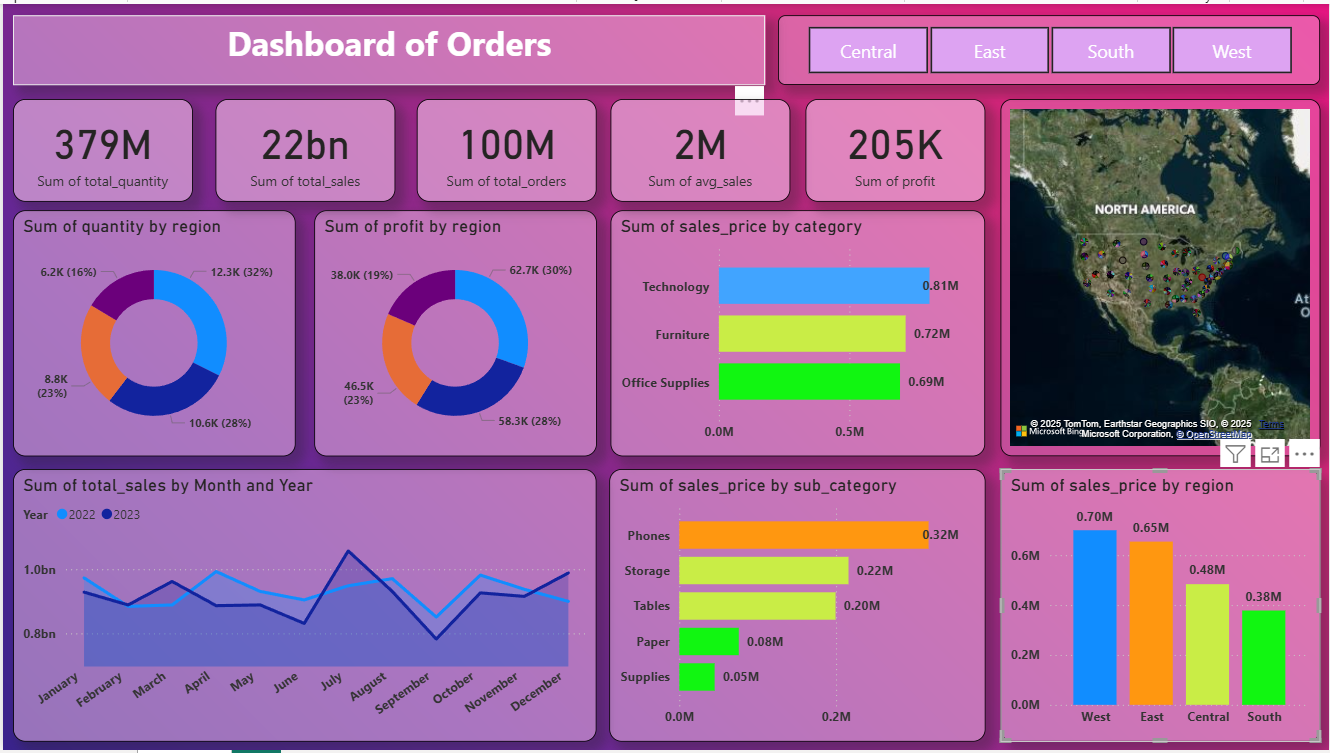

The page's visual inventory and layout, read from the dashboard file:
{"tool":"powerbi","page":{"name":"Page 1","canvas":[1280,720],"ordinal":0},"visuals":[{"type":"map","fields":{"Category":["df_orders.state"],"Series":["df_orders.city"]},"box":[962.7,91.7,308.8,345],"z":0},{"type":"slicer","fields":{"Values":["df_orders.region"]},"box":[748,10.9,523.6,67.6],"z":1},{"type":"columnChart","fields":{"Y":["Sum(df_orders.sales_price)"],"Category":["df_orders.region"]},"box":[962.7,448.8,308.8,263],"z":2},{"type":"barChart","fields":{"Y":["Sum(df_orders.sales_price)"],"Category":["df_orders.category"]},"box":[586.3,199.1,361.9,237.7],"z":3},{"type":"barChart","fields":{"Y":["Sum(df_orders.sales_price)"],"Category":["df_orders.sub_category"]},"box":[585.1,448.8,363.1,263],"z":4},{"type":"textbox","box":[9.7,10.9,726.3,67.6],"z":5},{"type":"lineChart","fields":{"Category":["df_orders.order_date.Variation.Date Hierarchy.Month"],"Series":["df_orders.order_date.Variation.Date Hierarchy.Year"],"Y":["Sum(df_orders.total_sales)"]},"box":[9.7,448.8,563.4,263],"z":6},{"type":"card","fields":{"Values":["Sum(df_orders.total_quantity)"]},"box":[9.7,91.7,173.7,98.9],"z":7},{"type":"donutChart","fields":{"Y":["Sum(df_orders.quantity)"],"Category":["df_orders.region"]},"box":[9.7,199.1,272.7,237.7],"z":11},{"type":"donutChart","fields":{"Category":["df_orders.region"],"Y":["Sum(df_orders.profit)"]},"box":[300.4,199.1,272.7,237.7],"z":12},{"type":"card","fields":{"Values":["Sum(df_orders.total_sales)"]},"box":[205.1,91.7,173.7,98.9],"z":13},{"type":"card","fields":{"Values":["Sum(df_orders.profit)"]},"box":[774.5,91.7,173.7,98.9],"z":14},{"type":"card","fields":{"Values":["Sum(df_orders.total_orders)"]},"box":[399.3,91.7,173.7,98.9],"z":15},{"type":"card","fields":{"Values":["Sum(df_orders.avg_sales)"]},"box":[586.3,91.7,173.7,98.9],"z":16}]}

Visuals, with their boxes in screenshot pixels (x1, y1, x2, y2), scaled from the page's 1280x720 canvas onto the 1330x753 screenshot:
map - df_orders.state x df_orders.city: x1=1000, y1=96, x2=1321, y2=457
slicer - df_orders.region: x1=777, y1=11, x2=1321, y2=82
columnChart - Sum(df_orders.sales_price) x df_orders.region: x1=1000, y1=469, x2=1321, y2=744
barChart - Sum(df_orders.sales_price) x df_orders.category: x1=609, y1=208, x2=985, y2=457
barChart - Sum(df_orders.sales_price) x df_orders.sub_category: x1=608, y1=469, x2=985, y2=744
textbox: x1=10, y1=11, x2=765, y2=82
lineChart - df_orders.order_date.Variation.Date Hierarchy.Month x df_orders.order_date.Variation.Date Hierarchy.Year: x1=10, y1=469, x2=595, y2=744
card - Sum(df_orders.total_quantity): x1=10, y1=96, x2=191, y2=199
donutChart - Sum(df_orders.quantity) x df_orders.region: x1=10, y1=208, x2=293, y2=457
donutChart - df_orders.region x Sum(df_orders.profit): x1=312, y1=208, x2=595, y2=457
card - Sum(df_orders.total_sales): x1=213, y1=96, x2=394, y2=199
card - Sum(df_orders.profit): x1=805, y1=96, x2=985, y2=199
card - Sum(df_orders.total_orders): x1=415, y1=96, x2=595, y2=199
card - Sum(df_orders.avg_sales): x1=609, y1=96, x2=790, y2=199
